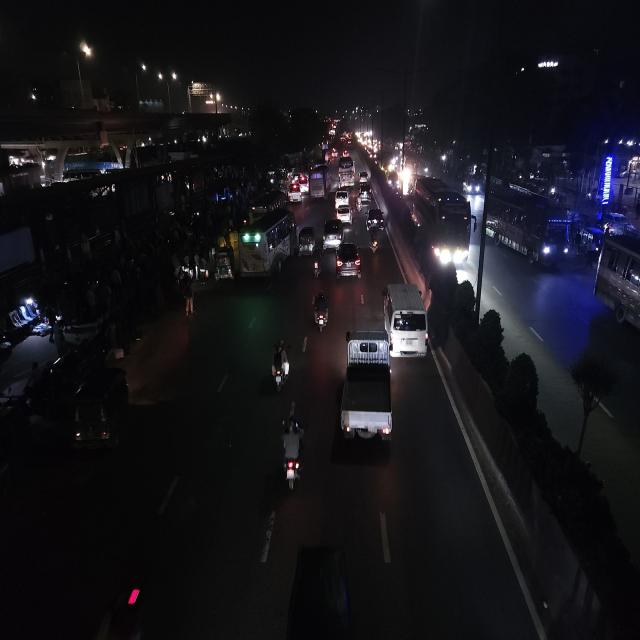bicycle: (176, 276, 198, 320)
bus: (485, 189, 572, 272), (412, 176, 474, 272), (592, 231, 640, 344), (237, 205, 297, 282), (310, 164, 330, 201), (336, 156, 356, 188)
car: (381, 278, 432, 365), (334, 239, 362, 283), (321, 216, 343, 249), (365, 204, 385, 231), (334, 187, 351, 210), (336, 204, 352, 223), (288, 186, 304, 204)
cng: (67, 364, 131, 462), (213, 243, 235, 282), (298, 223, 317, 259)
motorcycle: (276, 416, 309, 496), (270, 336, 291, 397), (312, 286, 329, 336), (312, 248, 322, 282), (369, 226, 379, 256)
pedestrian: (177, 271, 198, 321)
pickup_van: (334, 333, 397, 451)
